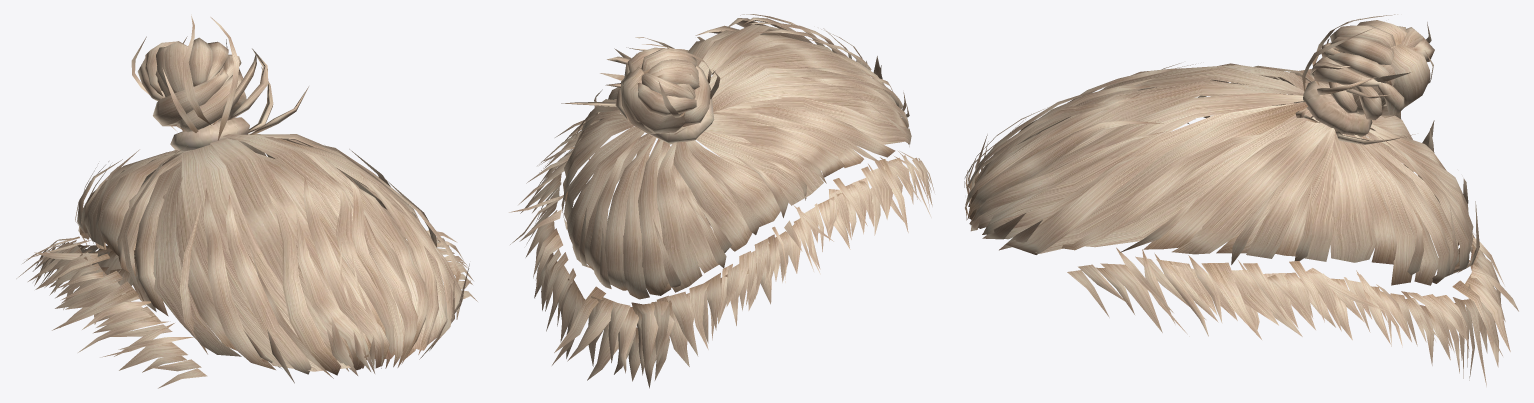
File: manhair3-transformed.glb
3 renders of one model, left to right at view 1: azimuth 30°, elevation 25°; view 2: azimuth 150°, elevation 25°; view 3: azimuth 270°, elevation 25°, orthographic. The views are drawn at different scales.
Visible parts, largest first — view 1: 7; view 2: 7; view 3: 7.
Boxes of the visible parts, x1,y1,x2,y2 form: 7: (16, 14, 477, 388); 7: (509, 14, 934, 388); 7: (964, 14, 1518, 386).
Bounding box in the file's own units: 0.4232 × 0.3411 × 0.4921.
Materials: 1 (1 with a texture image).
